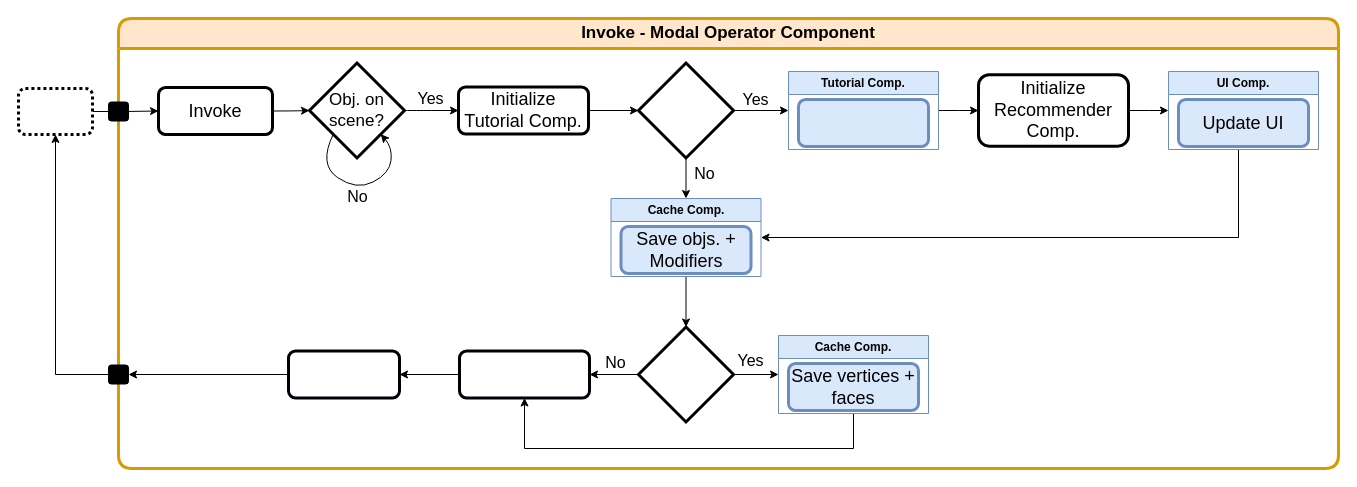
The diagram is 1357 pixels wide and 487 high, and some of its shapes have lost their labels. Each missing label, with the centre of its shape:
Edit mode?: pixel 685 374
Get performed operations: pixel 524 374
Load steps: pixel 863 123
Start Modal Operator: pixel 343 374
Tutorial Mode?: pixel 685 110
UI: pixel 55 111
